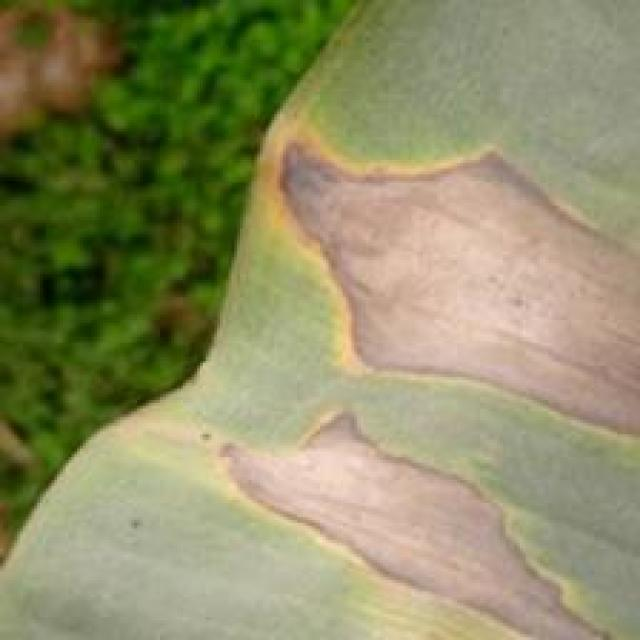Bacterial_spot: (263, 128, 640, 439), (210, 393, 638, 640)
